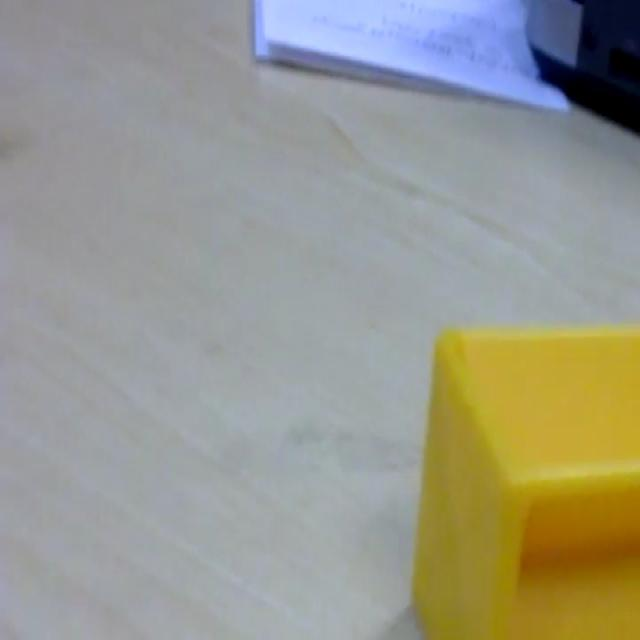yellow_block: (411, 320, 639, 636)
